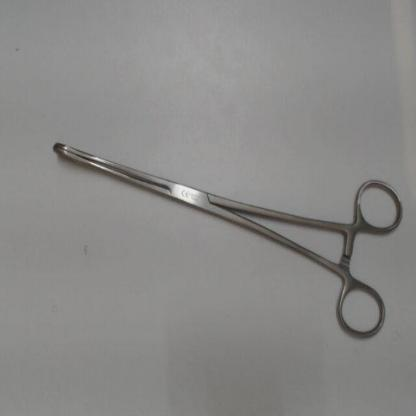Sponge Forceps: (44, 136, 406, 350)
